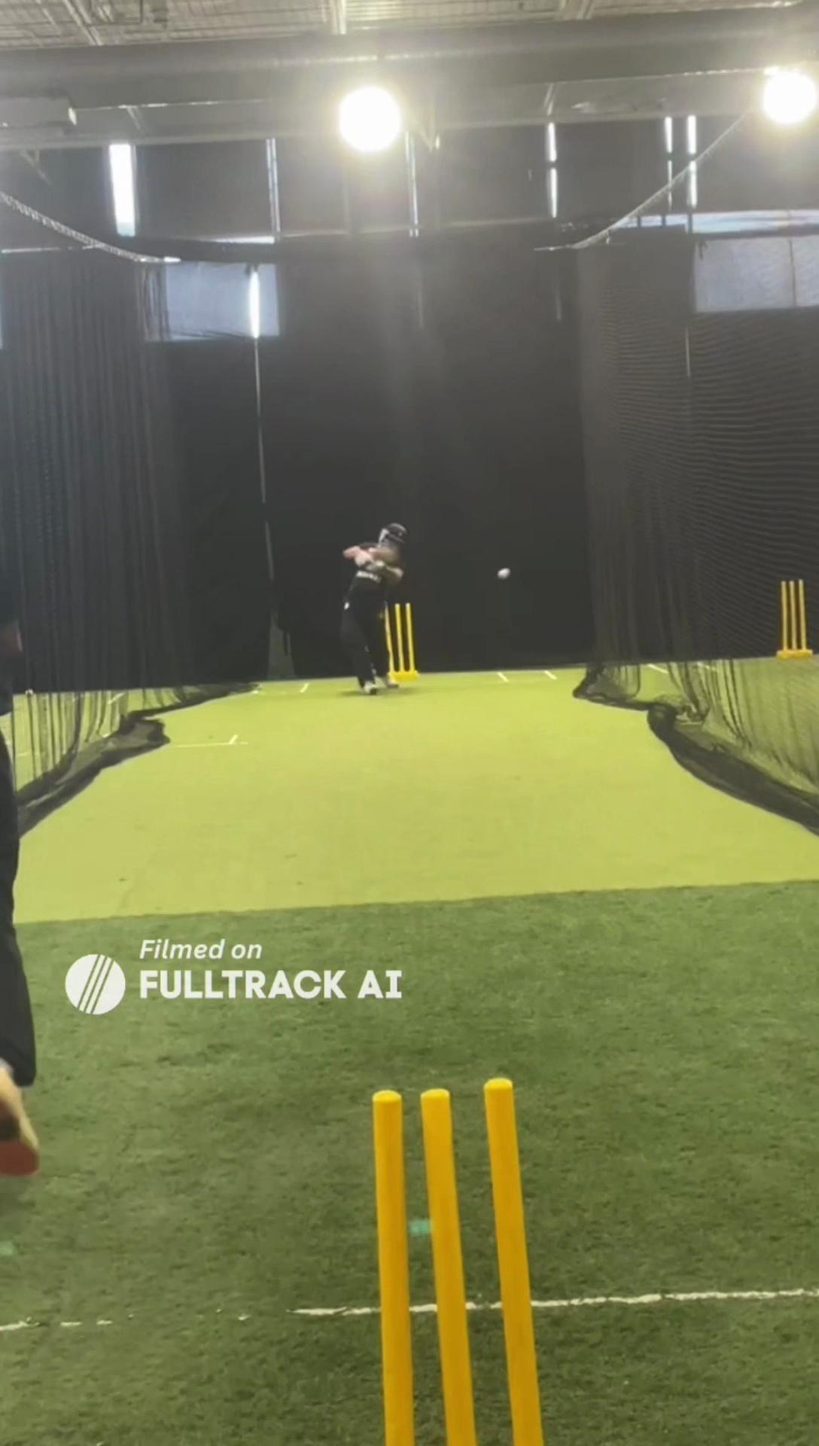ball: (496, 567, 510, 581)
